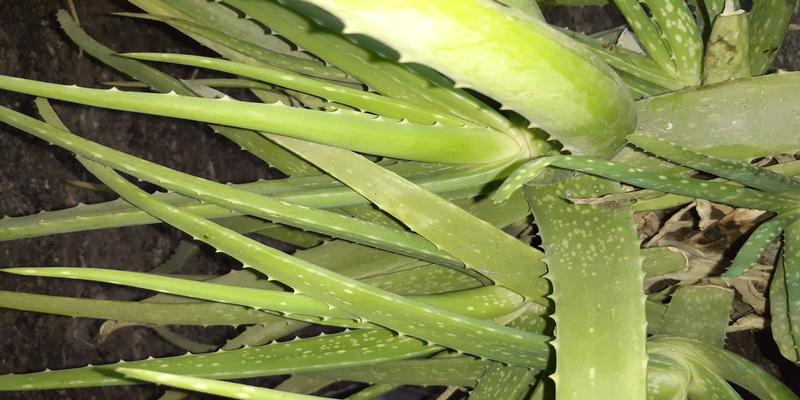Aloevera: (120, 8, 754, 371)
